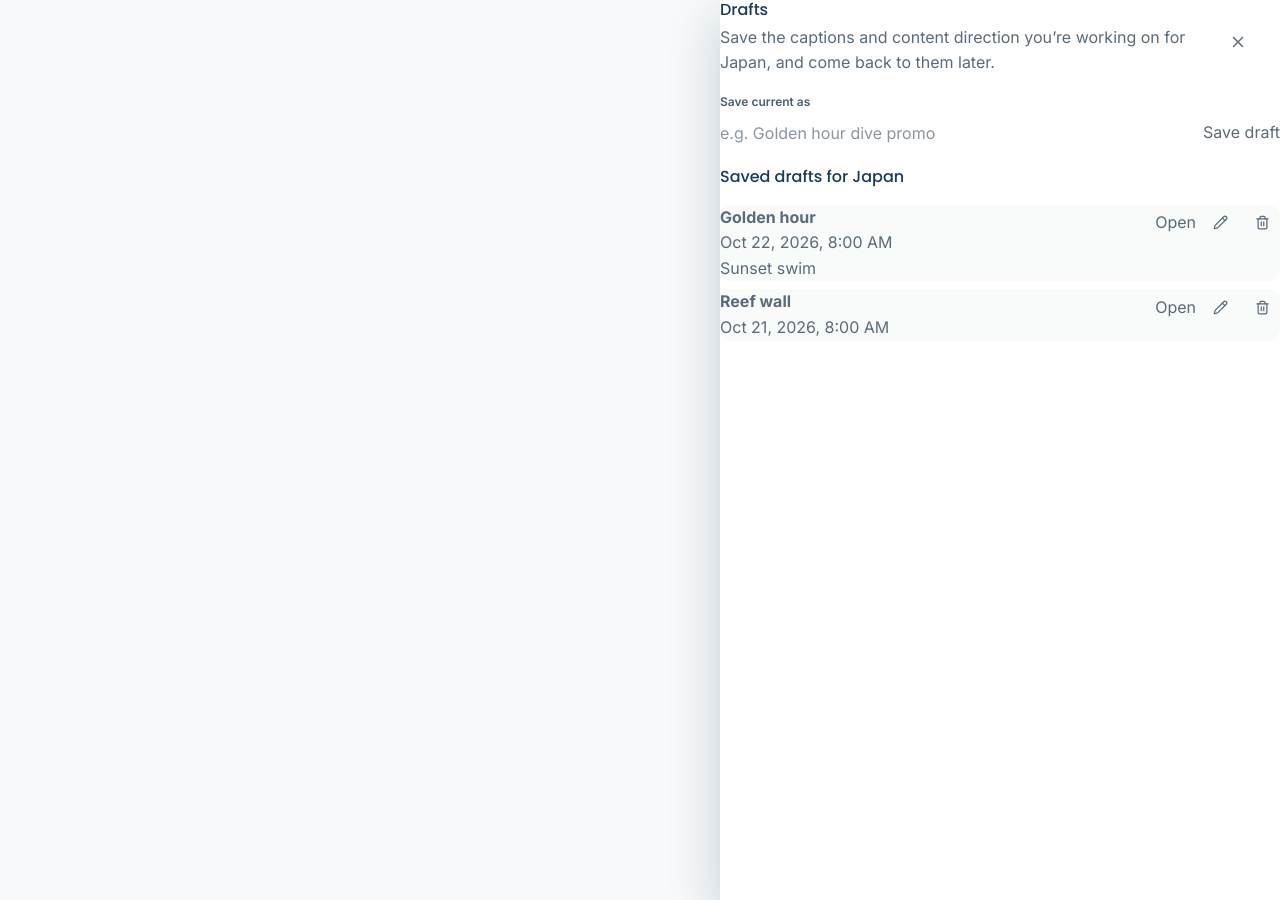
Test: DraftsPanel › says so when an action fails
Click the button with aria-label "Open Golden hour".
click(1176, 223)  # box [1155,206,1196,240]
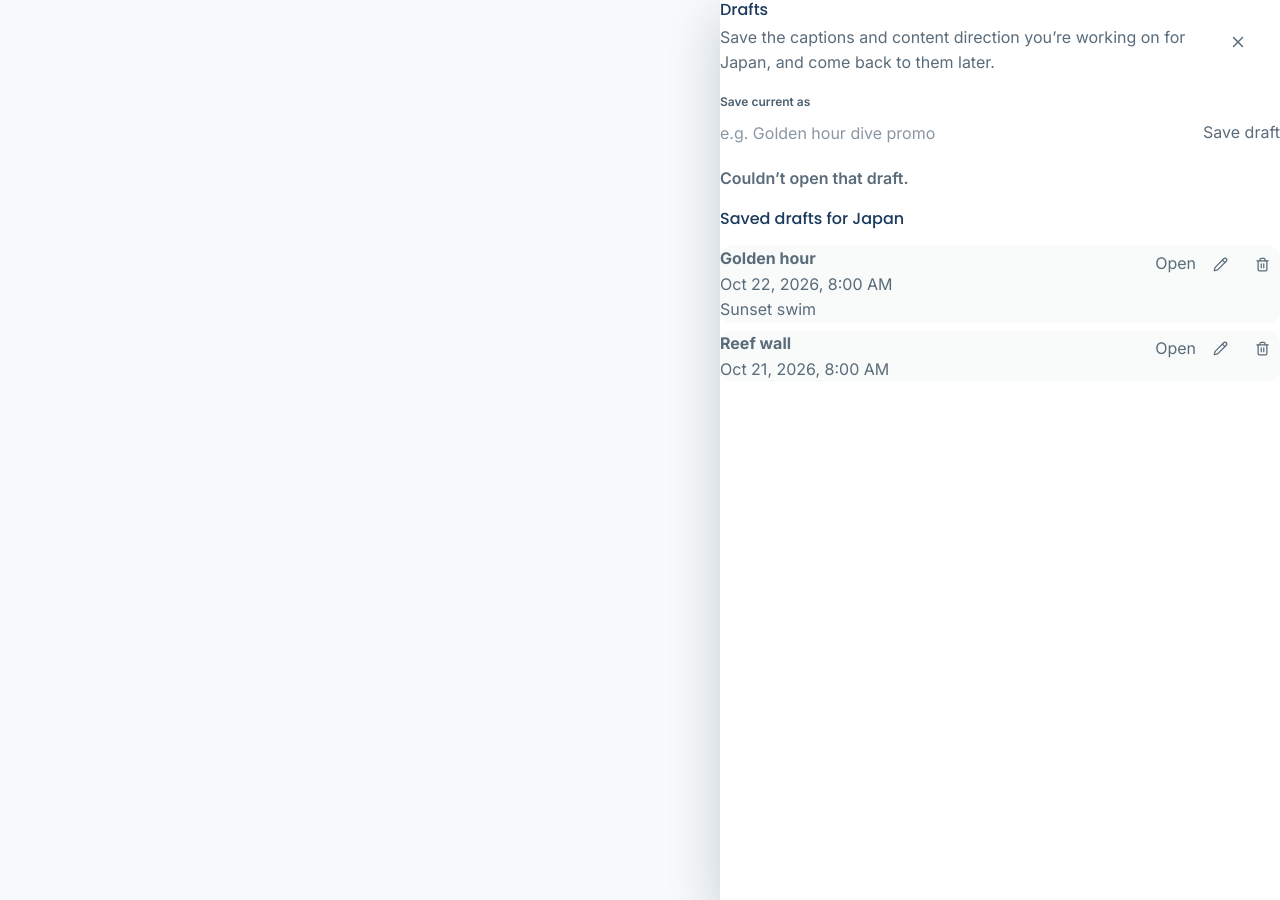
Expected: the message shows "open that draft", [720,168,908,188]
